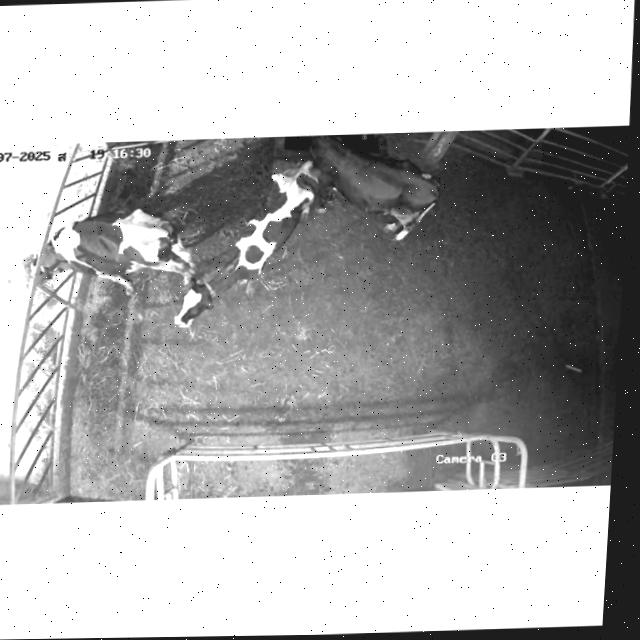stand: (174, 161, 316, 327)
